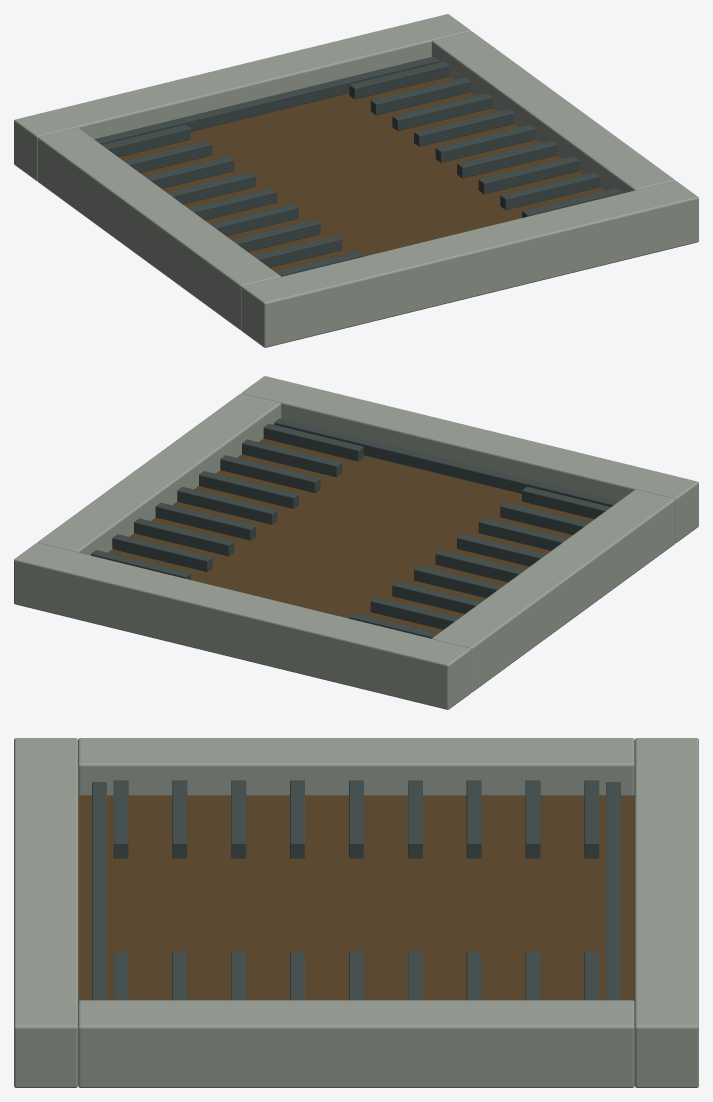
3 renders of one model, top to bottom at view 1: azimuth 30°, elevation 25°; view 2: azimuth 150°, elevation 25°; view 3: azimuth 270°, elevation 25°, orthographic. The views are drawn at different scales.
Parts seen in each view (by area): view 1: PIT_Earth, PIT_Kerb, PIT_Kerb.002, PIT_Kerb.001, PIT_Kerb.003, GRATE_Tie.001, GRATE_Bar.010, GRATE_Bar.015, GRATE_Bar.013, GRATE_Bar.017, GRATE_Bar.012, GRATE_Bar.011 (+12 smaller); view 2: PIT_Earth, PIT_Kerb.001, PIT_Kerb.002, PIT_Kerb, PIT_Kerb.003, GRATE_Tie, GRATE_Bar.011, GRATE_Bar.016, GRATE_Bar.009, GRATE_Bar.013, GRATE_Bar.014, GRATE_Bar.015 (+12 smaller); view 3: PIT_Earth, PIT_Kerb.003, PIT_Kerb.002, PIT_Kerb, PIT_Kerb.001, GRATE_Tie, GRATE_Tie.001, GRATE_Bar, GRATE_Bar.008, GRATE_Bar.001, GRATE_Bar.002, GRATE_Bar.006 (+13 smaller).
Boxes of the visible parts, bbox=[...] form: PIT_Earth: bbox=[118, 76, 604, 271]; PIT_Kerb: bbox=[241, 180, 698, 347]; PIT_Kerb.002: bbox=[37, 127, 280, 330]; PIT_Kerb.001: bbox=[14, 14, 470, 181]; PIT_Kerb.003: bbox=[431, 31, 674, 193]; GRATE_Tie.001: bbox=[94, 56, 438, 144]; GRATE_Bar.010: bbox=[500, 172, 600, 209]; GRATE_Bar.015: bbox=[392, 93, 492, 130]; GRATE_Bar.013: bbox=[435, 125, 535, 162]; GRATE_Bar.017: bbox=[349, 61, 449, 99]; GRATE_Bar.012: bbox=[457, 140, 557, 178]; GRATE_Bar.011: bbox=[478, 156, 578, 194]; PIT_Earth: bbox=[108, 438, 594, 633]; PIT_Kerb.001: bbox=[14, 542, 471, 709]; PIT_Kerb.002: bbox=[432, 489, 675, 692]; PIT_Kerb: bbox=[242, 376, 698, 543]; PIT_Kerb.003: bbox=[38, 393, 281, 555]; GRATE_Tie: bbox=[274, 418, 618, 506]; GRATE_Bar.011: bbox=[220, 455, 320, 492]; GRATE_Bar.016: bbox=[112, 534, 212, 571]; GRATE_Bar.009: bbox=[263, 423, 363, 461]; GRATE_Bar.013: bbox=[177, 487, 277, 524]; GRATE_Bar.014: bbox=[155, 502, 255, 540]; GRATE_Bar.015: bbox=[134, 518, 234, 556]; PIT_Earth: bbox=[78, 795, 634, 1001]; PIT_Kerb.003: bbox=[78, 1000, 634, 1087]; PIT_Kerb.002: bbox=[78, 738, 634, 795]; PIT_Kerb: bbox=[14, 738, 78, 1087]; PIT_Kerb.001: bbox=[634, 738, 698, 1087]; GRATE_Tie: bbox=[92, 782, 106, 1000]; GRATE_Tie.001: bbox=[606, 782, 620, 1000]; GRATE_Bar: bbox=[113, 780, 128, 858]; GRATE_Bar.008: bbox=[584, 780, 599, 858]; GRATE_Bar.001: bbox=[172, 780, 187, 858]; GRATE_Bar.002: bbox=[231, 780, 246, 858]; GRATE_Bar.006: bbox=[466, 780, 481, 858].
Size of the model in its own units: 1.6 by 0.16 by 1.6.
